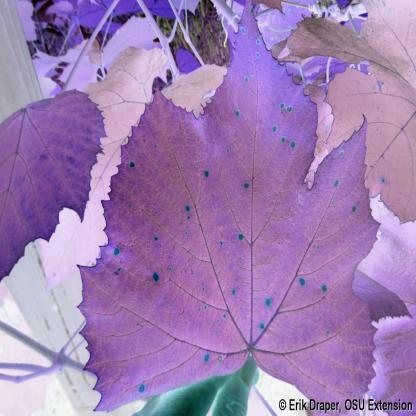grape leaf: (46, 8, 406, 395)
